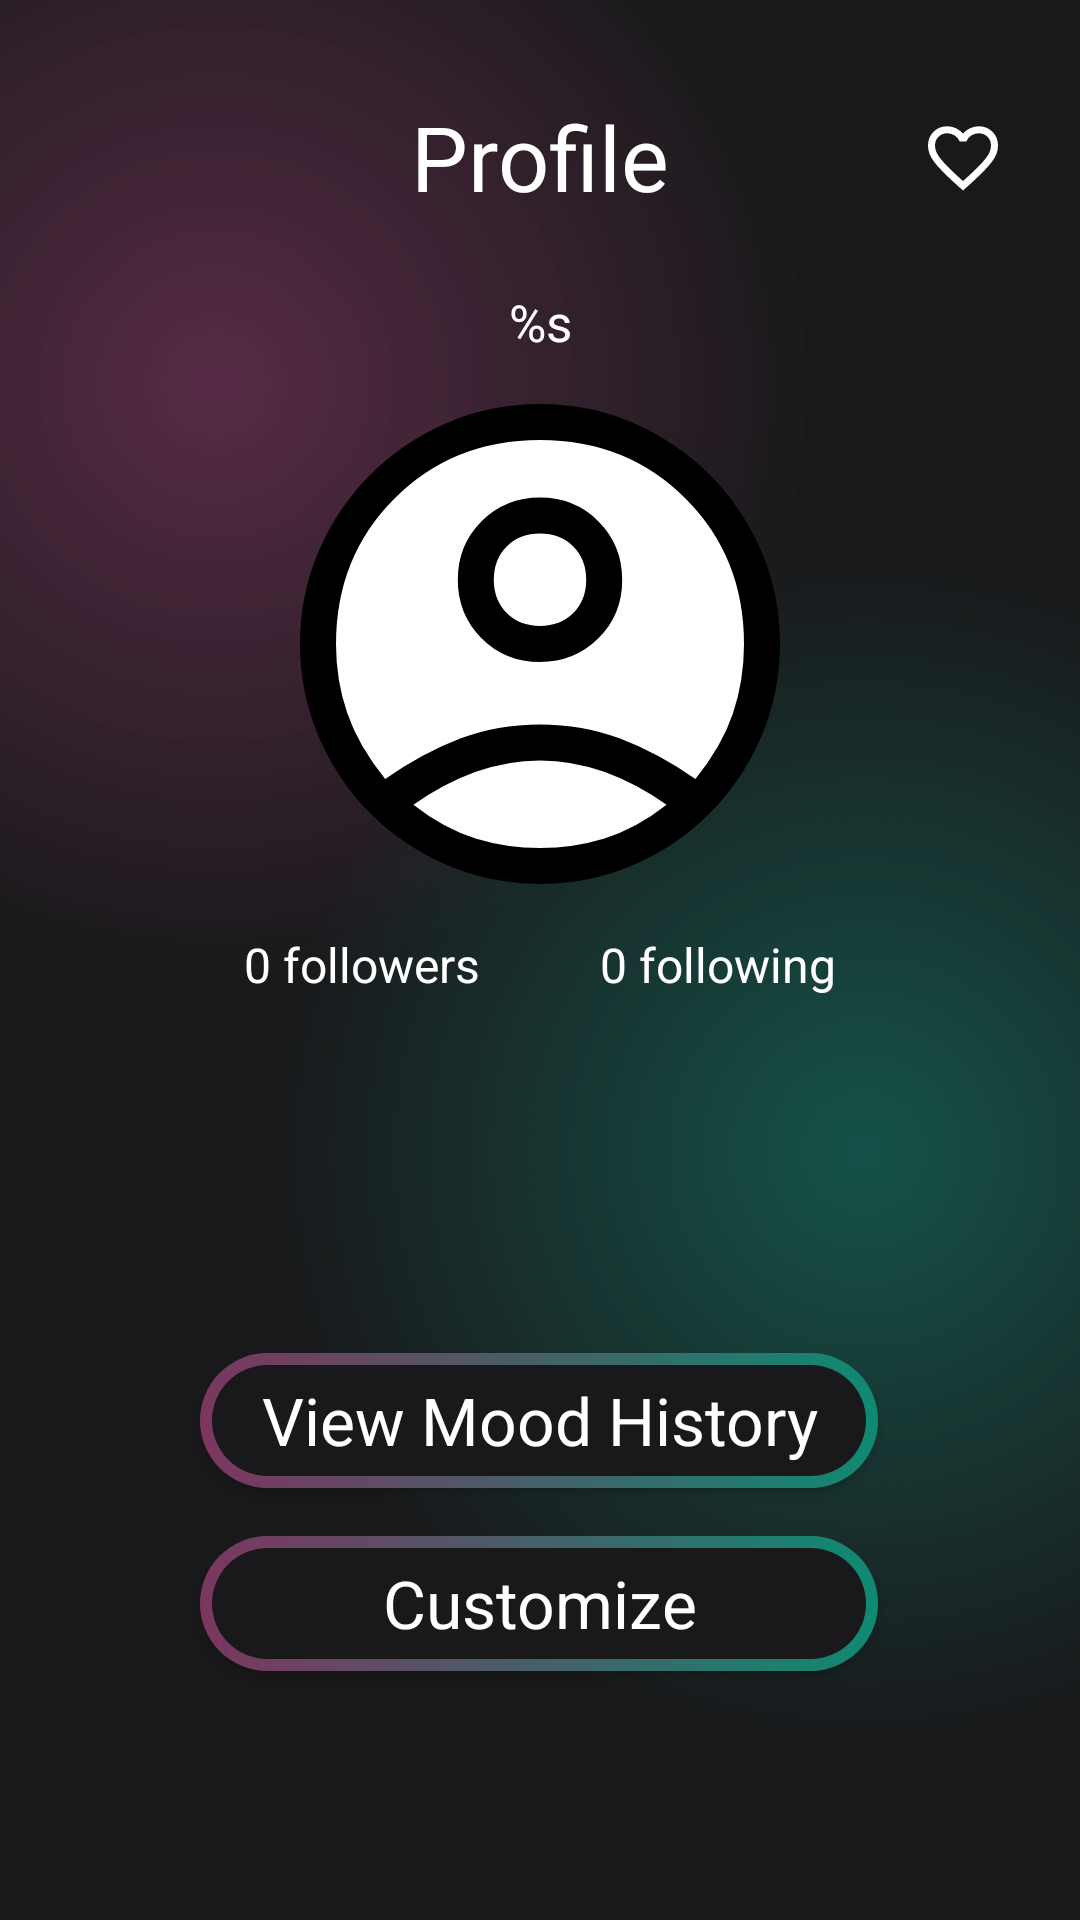

Where icons sit on this 1080×1920 app screen, as (x1, y1, x2, y2):
heart: (928, 126, 998, 191)
